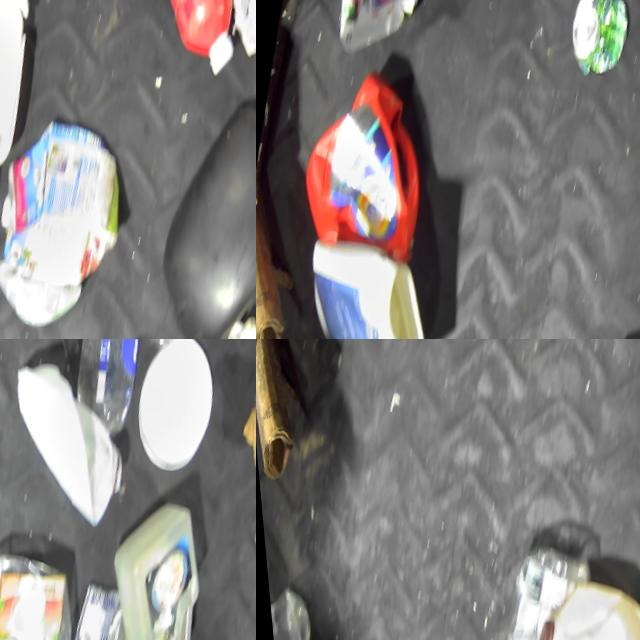can: (556, 0, 636, 85), (47, 578, 135, 640)
milk_jug: (0, 349, 142, 540), (504, 569, 640, 640)
non_white_jug: (277, 58, 447, 264), (64, 486, 219, 640), (275, 233, 443, 339)
plastic_bottle: (37, 339, 184, 451)
